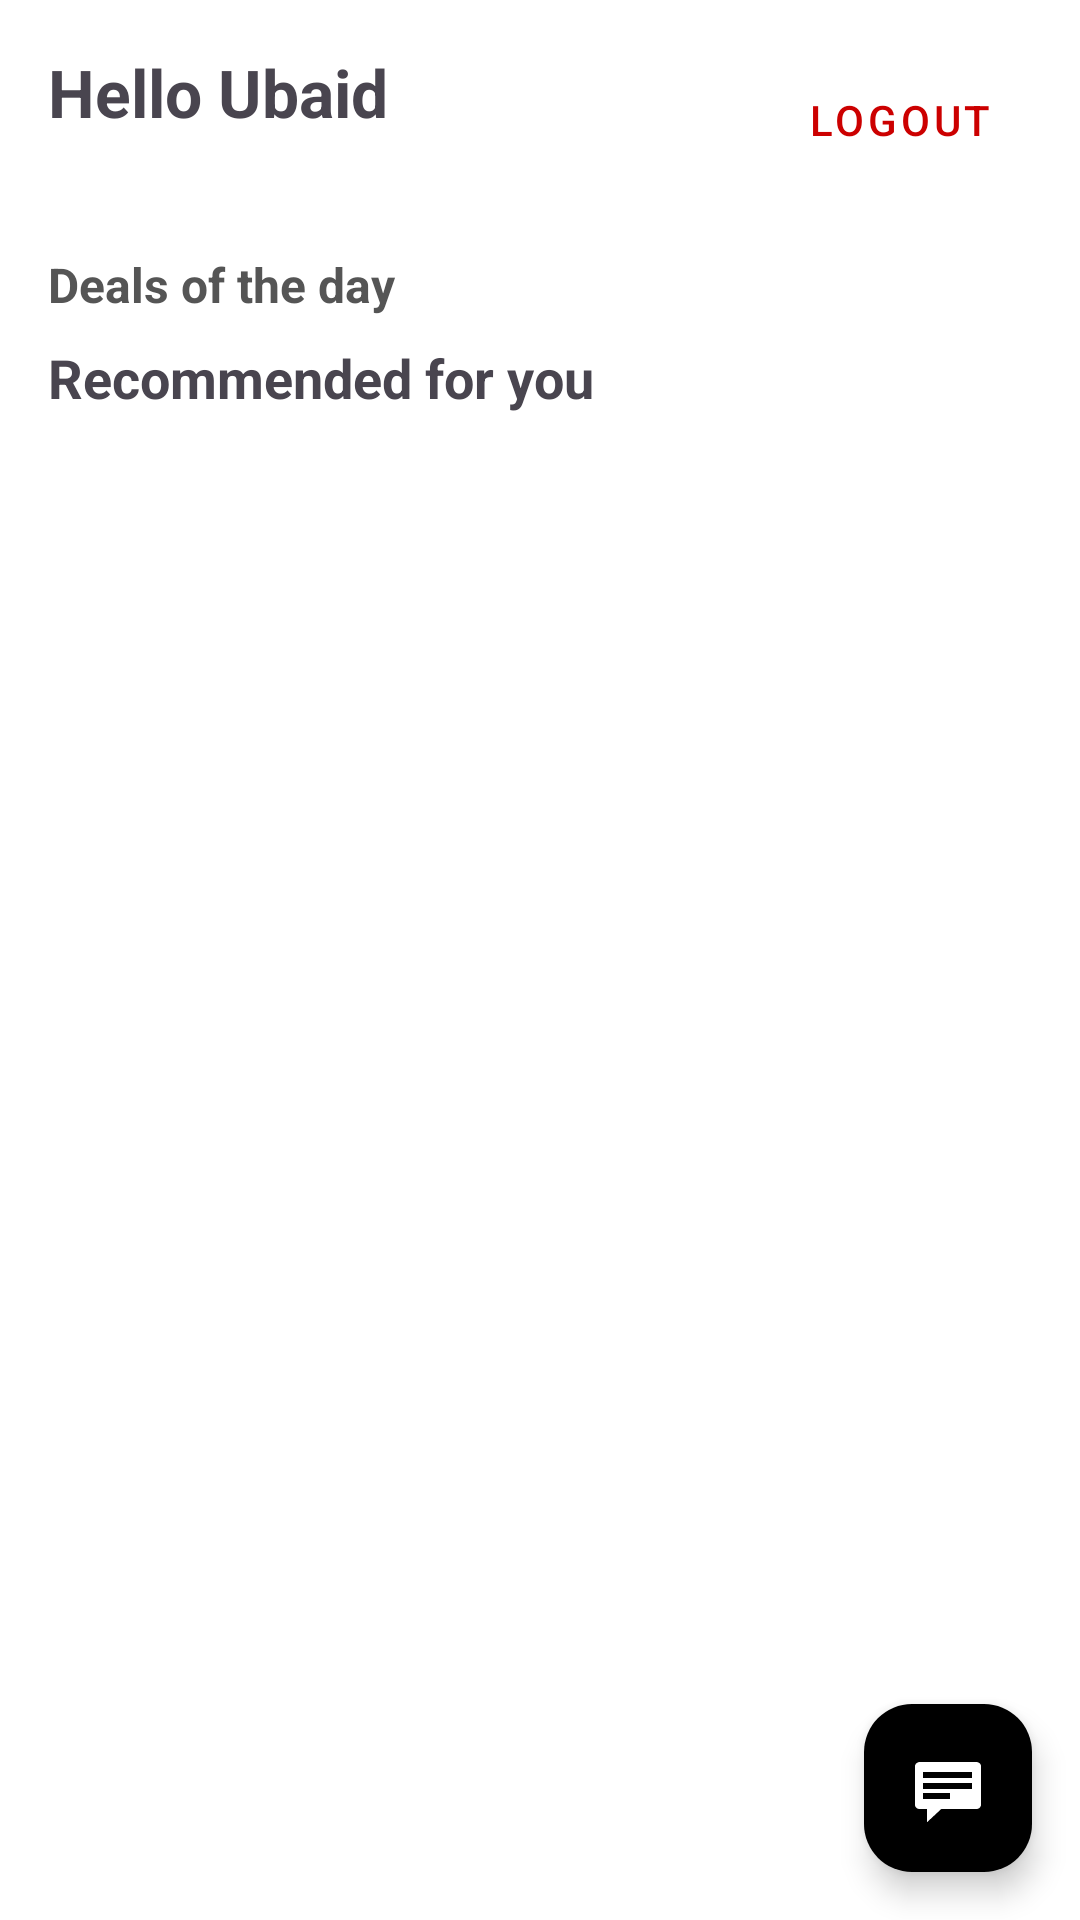

Locate icon controls on the screen. Image size 1080 × 1920, boxes as {"x1": x1, "y1": y1, "x2": x2, "y2": y2}.
chat: {"x1": 864, "y1": 1704, "x2": 1032, "y2": 1872}
